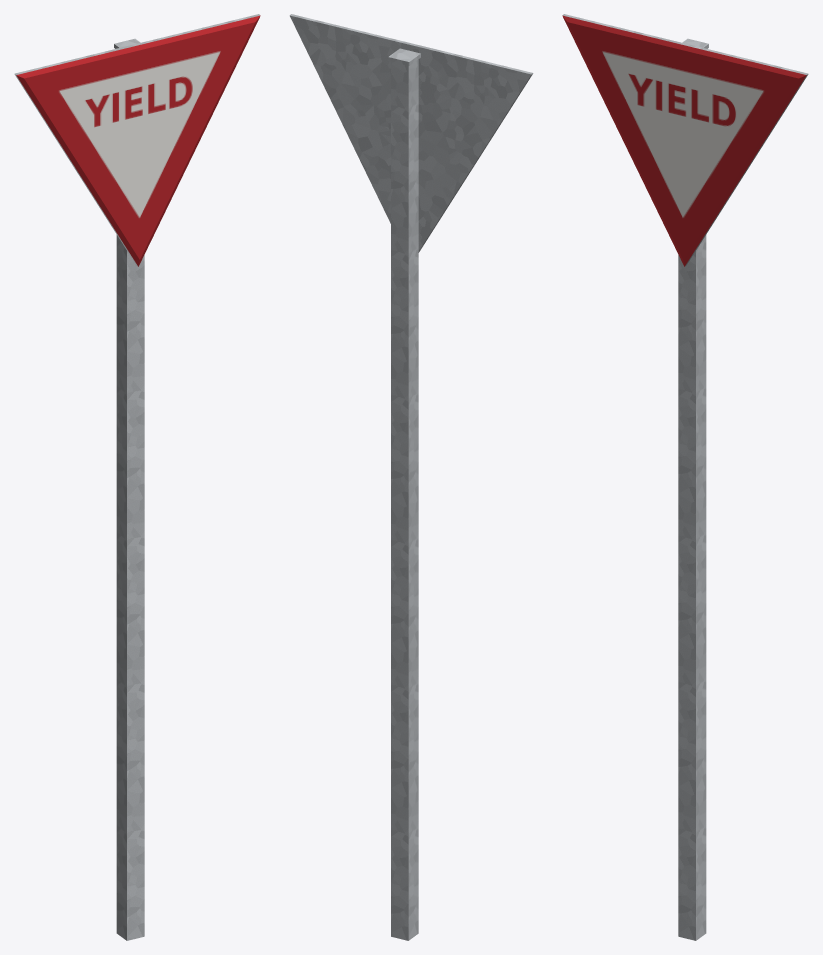
Rendered from yield_sign.gltf.
3 renders of one model, left to right at view 1: azimuth 30°, elevation 25°; view 2: azimuth 150°, elevation 25°; view 3: azimuth 330°, elevation 25°, orthographic.
Visible parts, largest first — view 1: yield_sign; view 2: yield_sign; view 3: yield_sign.
Boxes of the visible parts, <box> form: yield_sign: <box>14,14,260,940</box>; yield_sign: <box>289,14,533,940</box>; yield_sign: <box>562,14,808,940</box>.
Size of the model in its own units: 0.874 by 3.06 by 0.0943.
Materials: 2 (2 with a texture image).
